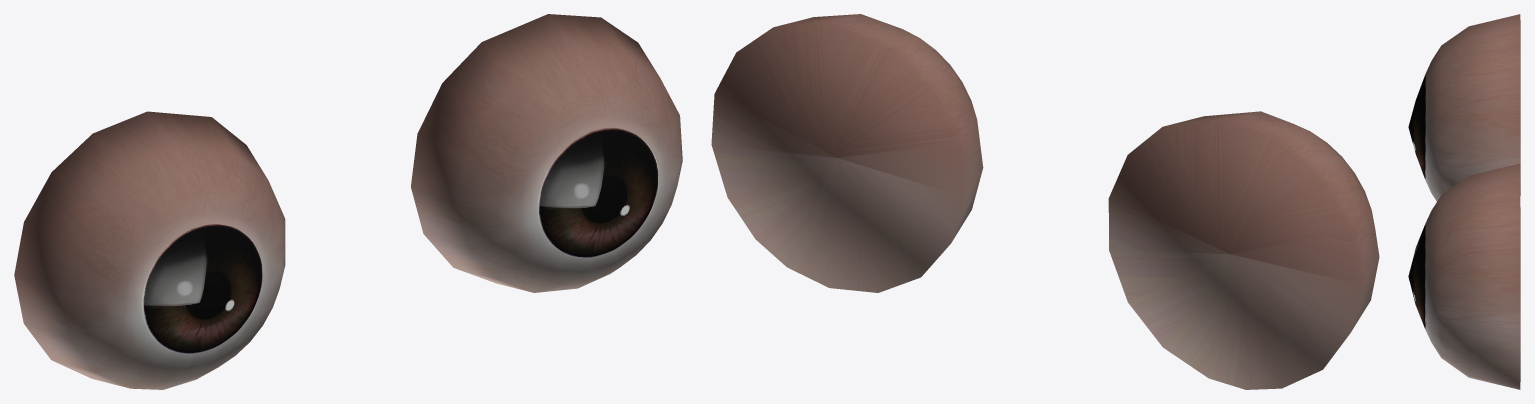
The model's file is femaleeye1.glb.
3 views of the same model, side by side, from view 1: azimuth 30°, elevation 25°; view 2: azimuth 150°, elevation 25°; view 3: azimuth 270°, elevation 25° (orthographic). The views are drawn at different scales.
Visible parts, largest first — view 1: EyeRight, EyeLeft; view 2: EyeLeft, EyeRight; view 3: EyeLeft, EyeRight.
Part boxes in pixels (x1,y1,x2,y2): EyeRight: (14,111,285,389); EyeLeft: (411,14,682,292); EyeLeft: (711,14,983,292); EyeRight: (1108,111,1379,389); EyeLeft: (1408,163,1520,389); EyeRight: (1408,14,1520,201).
Size of the model in its own units: 0.1084 by 0.0422 by 0.021.
Materials: 1 (1 with a texture image).
